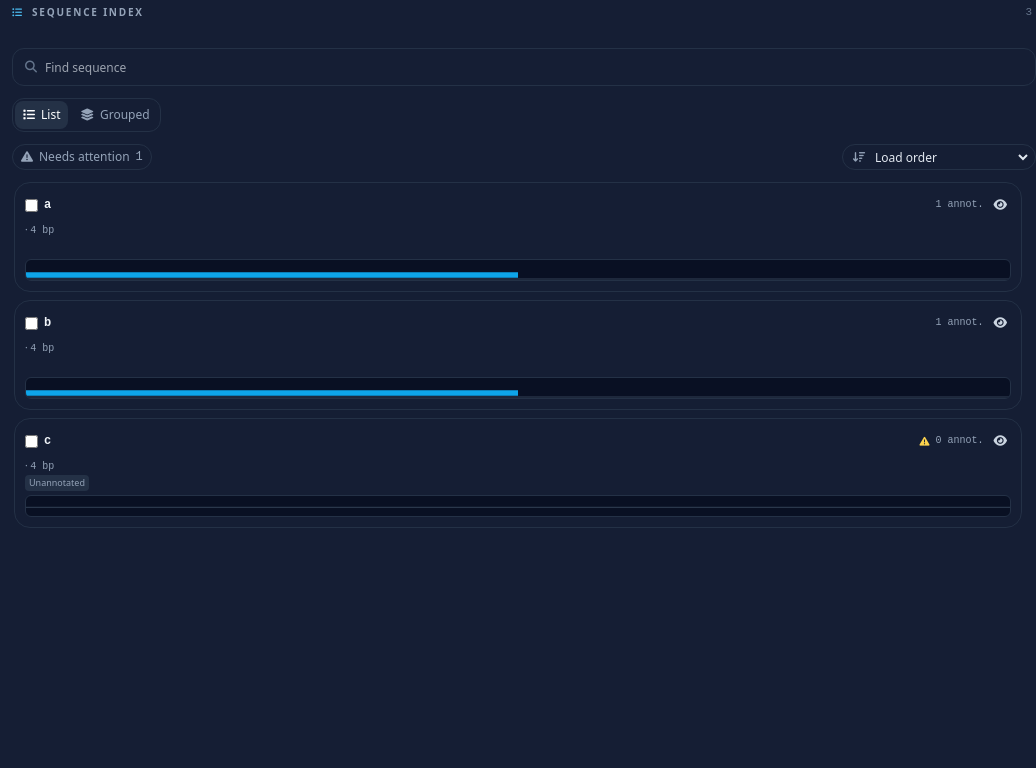
it: shows only the number in group count pills
Click the button "Grouped" at (115, 115), box [72,101,158,129]
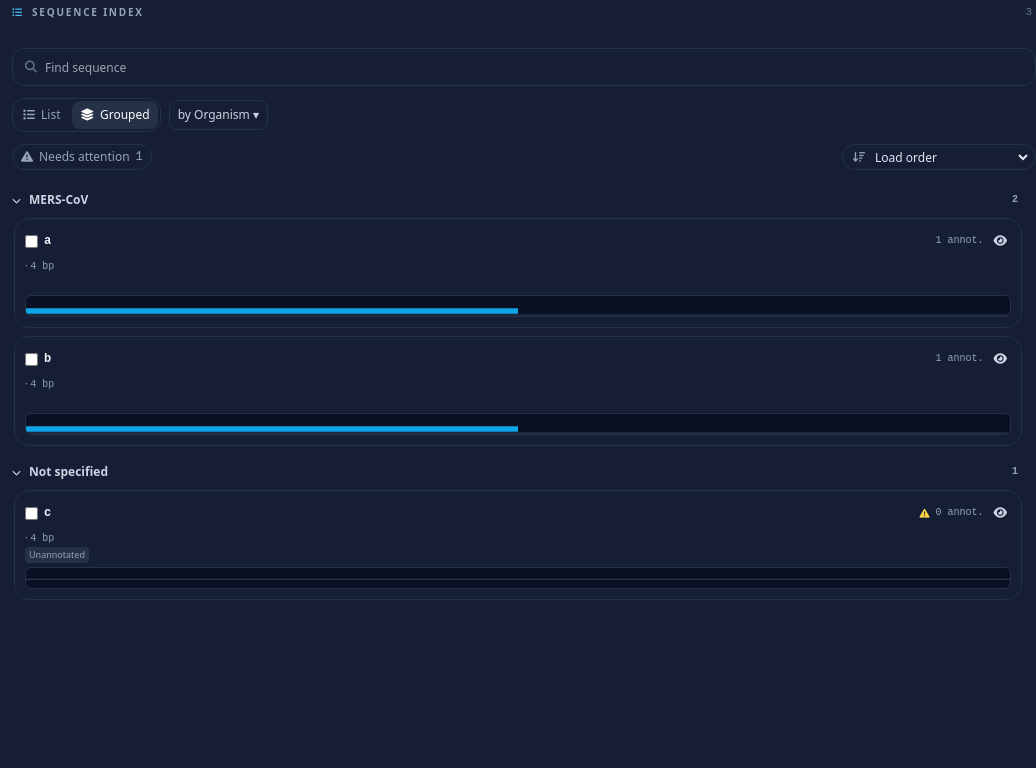
Check: the text "2" is shown, box [1006,192,1024,208]
